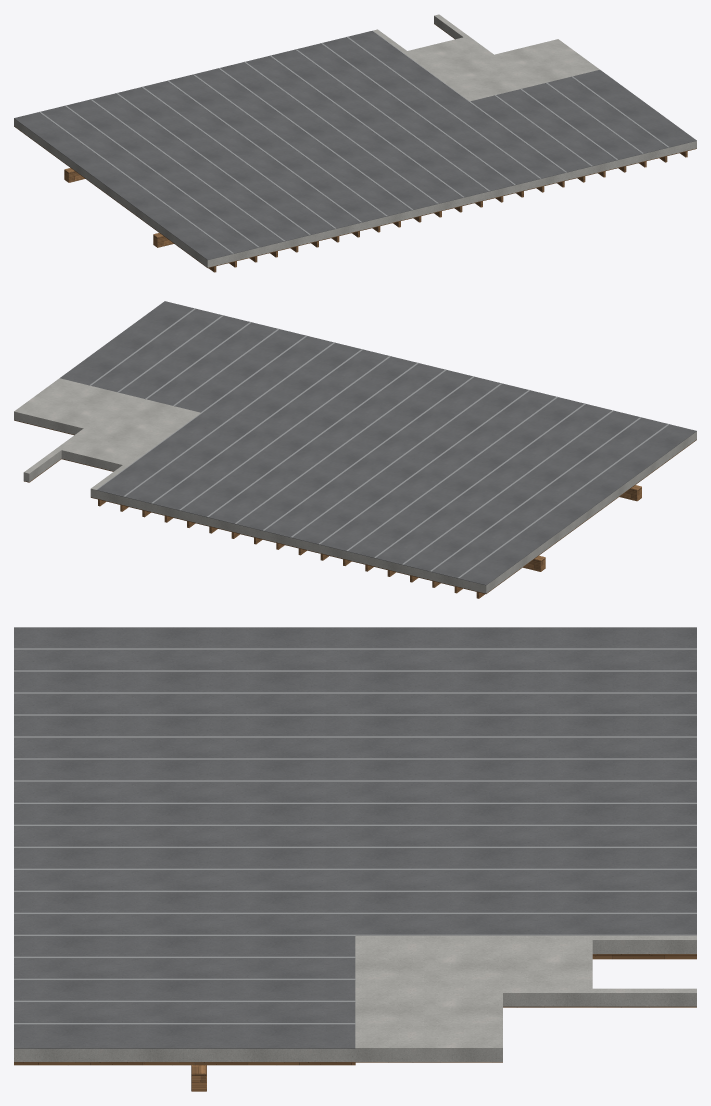
File: slab_roof.glb
3 views of the same model, one above another, from view 1: azimuth 30°, elevation 25°; view 2: azimuth 150°, elevation 25°; view 3: azimuth 270°, elevation 25° (orthographic). The views are drawn at different scales.
Parts seen in each view (by area): view 1: slab_roof_membrane, slab_roof_conc_s, slab_roof_seam, slab_roof_timber; view 2: slab_roof_membrane, slab_roof_conc_s, slab_roof_seam, slab_roof_timber; view 3: slab_roof_membrane, slab_roof_conc_s, slab_roof_seam, slab_roof_timber.
Boxes of the visible parts, <box> form: slab_roof_membrane: <box>14,31,696,259</box>; slab_roof_conc_s: <box>14,14,696,267</box>; slab_roof_seam: <box>39,30,669,253</box>; slab_roof_timber: <box>14,23,696,272</box>; slab_roof_membrane: <box>60,301,696,585</box>; slab_roof_conc_s: <box>14,378,696,593</box>; slab_roof_seam: <box>89,308,669,578</box>; slab_roof_timber: <box>14,420,696,598</box>; slab_roof_membrane: <box>14,627,696,1048</box>; slab_roof_conc_s: <box>14,935,696,1061</box>; slab_roof_seam: <box>14,648,696,1024</box>; slab_roof_timber: <box>14,954,696,1091</box>.
Bounding box in the file's own units: 19.1 × 0.938 × 13.1.
Materials: 4 (3 with a texture image).
